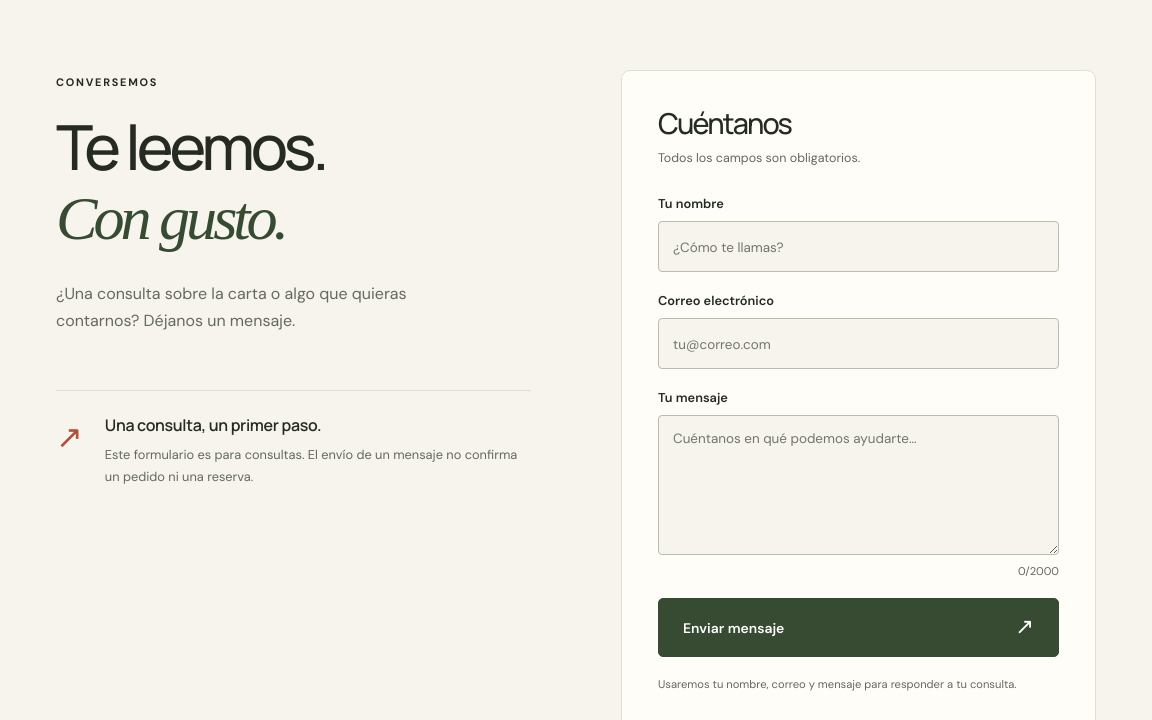
Test case: Contacto › conserva los datos y permite reintentar después de un fallo
Type "Ana" into the field labelled "Tu nombre" at (858, 247), box [658,221,1059,272]
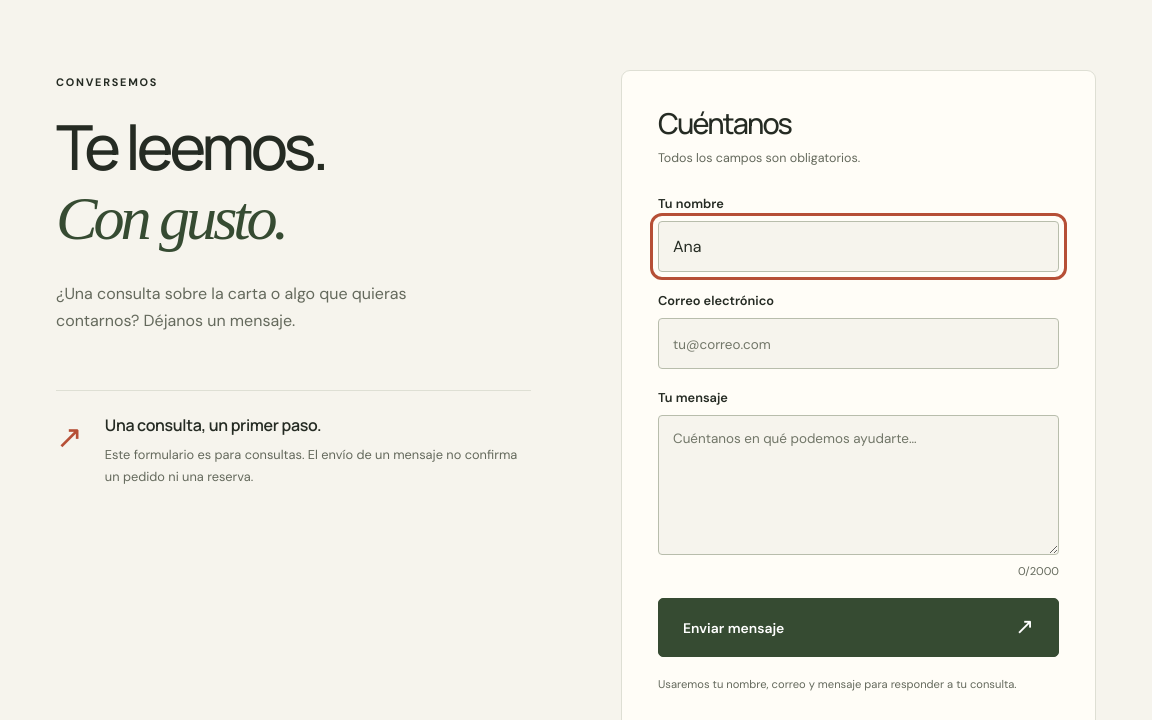
Type "ana@example.com" into the field labelled "Correo electrónico" at (858, 344), box [658,318,1059,369]
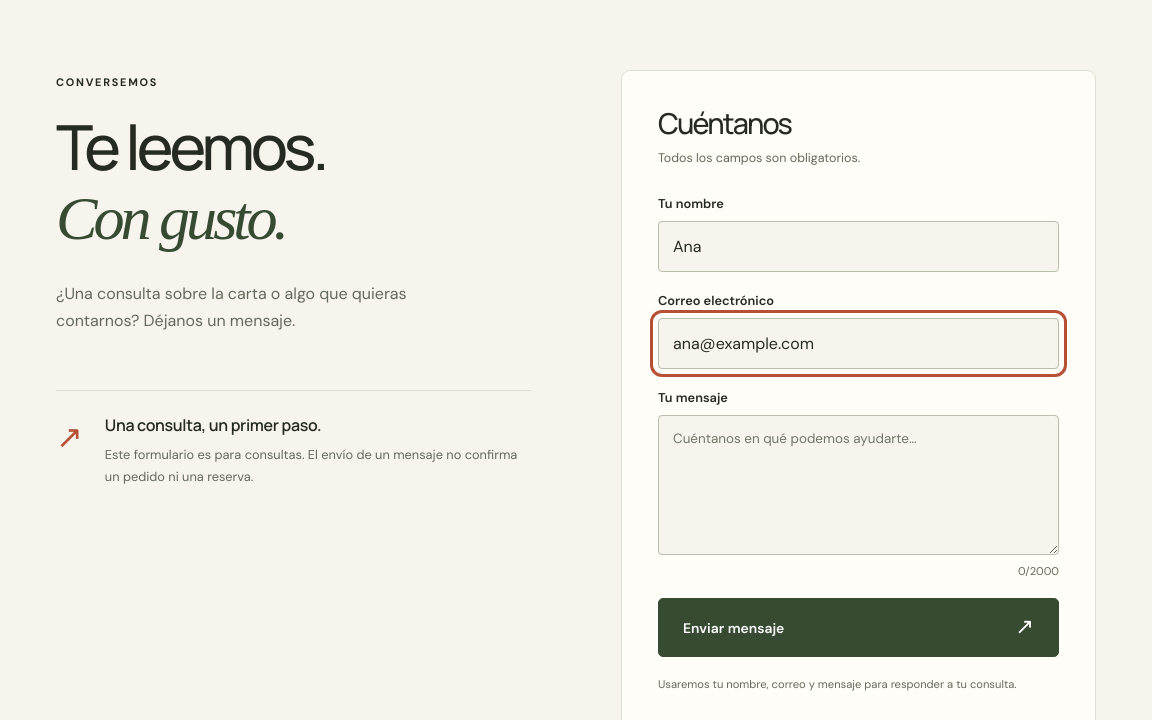
Type "Hola, quisiera consultar por un bento." into the text box labelled "Tu mensaje" at (858, 485), box [658,415,1059,555]
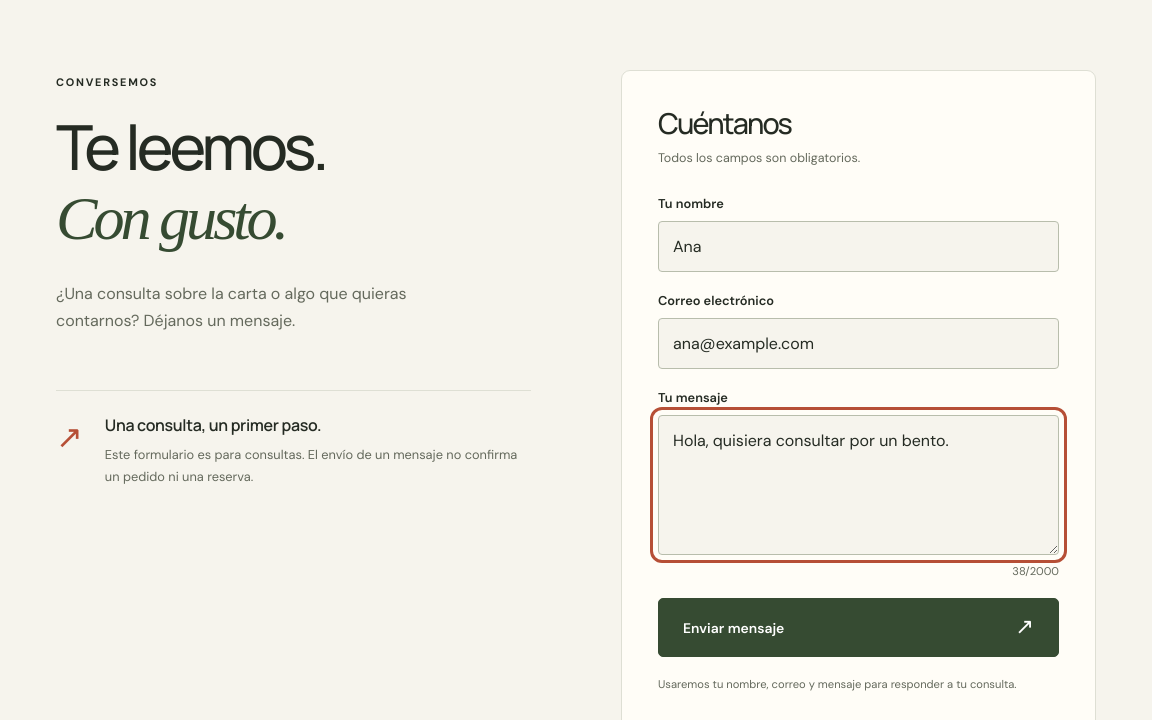
Click the button "Enviar mensaje ↗" at (734, 628), box [658,598,1059,657]
(page scrolled)
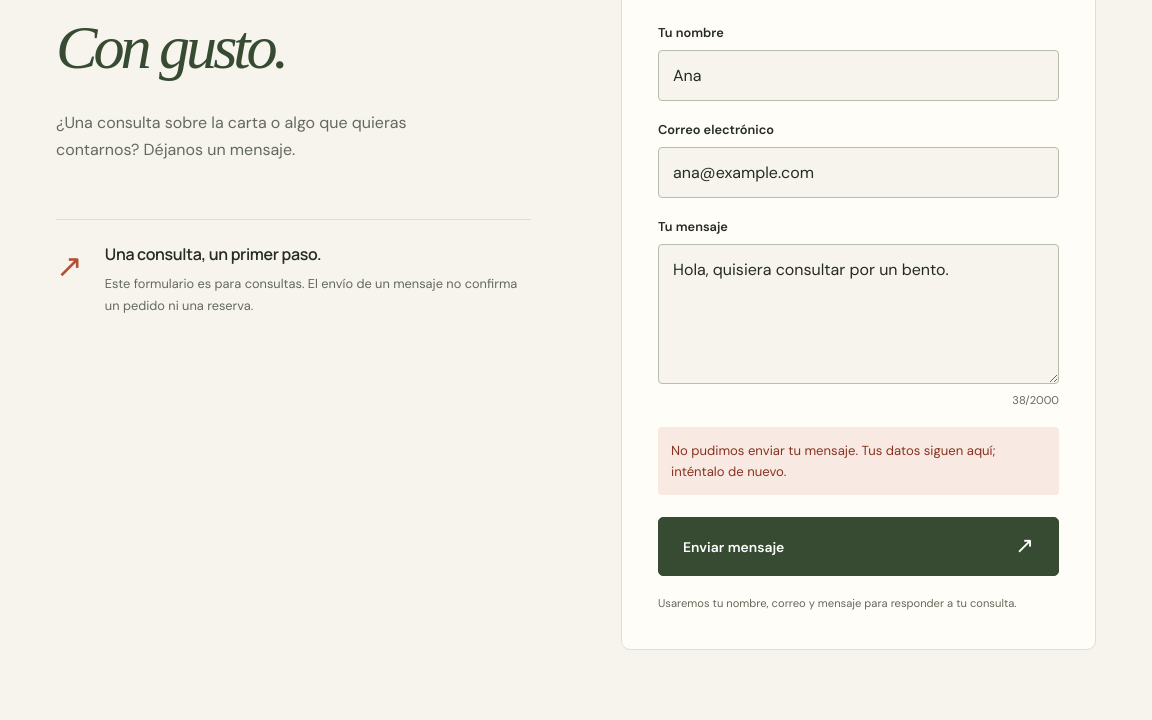
Now the message shows "No pudimos enviar", box [671,442,996,480]
Click the button "Enviar mensaje ↗" at (734, 547), box [658,517,1059,576]
(page scrolled)
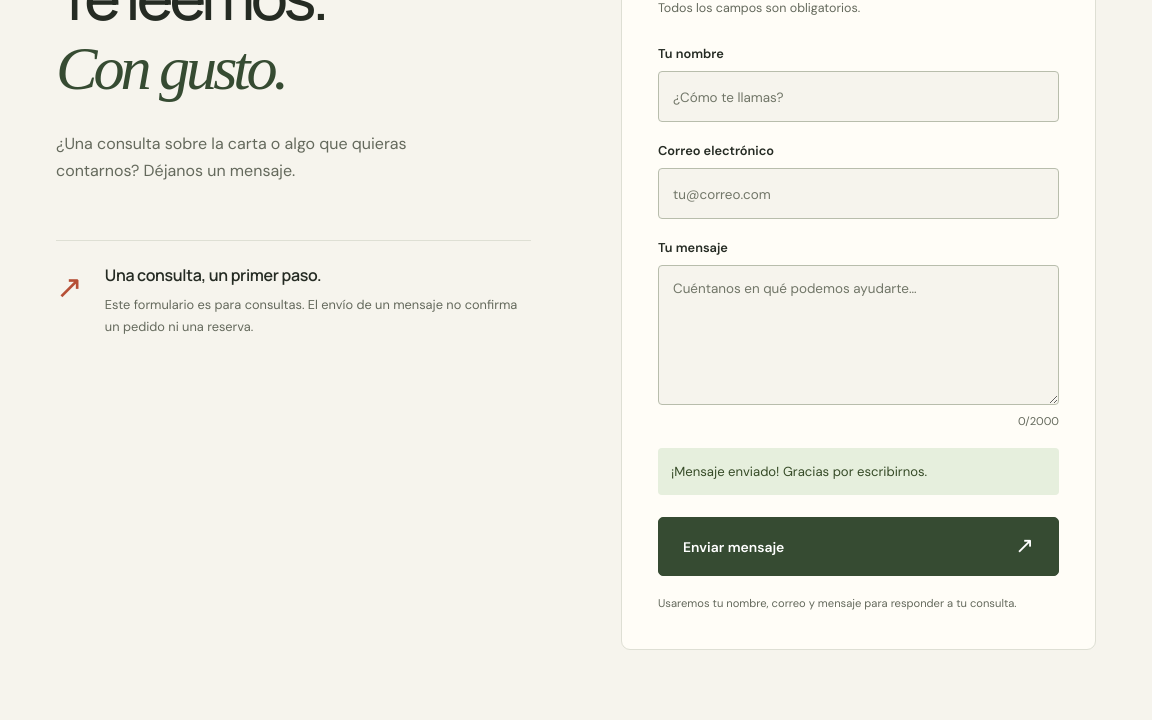
Now the message shows "¡Mensaje enviado!", box [671,463,927,480]
